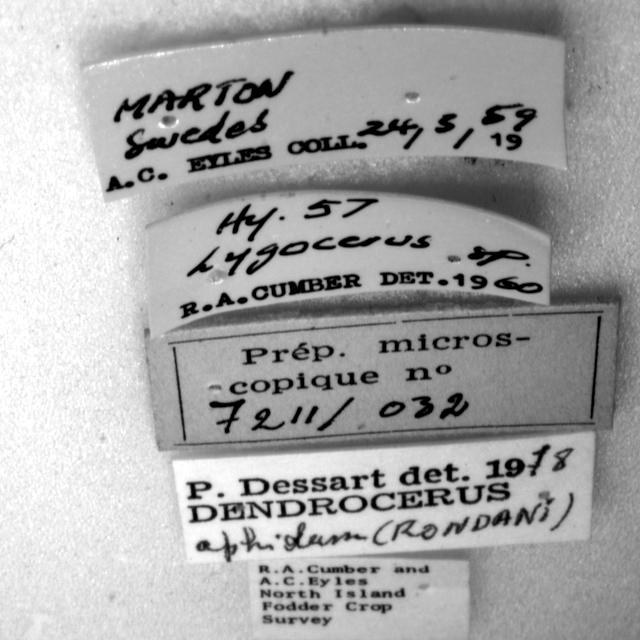mixed_label: (82, 26, 566, 201), (145, 298, 619, 450), (145, 191, 550, 338), (172, 431, 595, 562)
typed_label: (249, 557, 470, 639)
